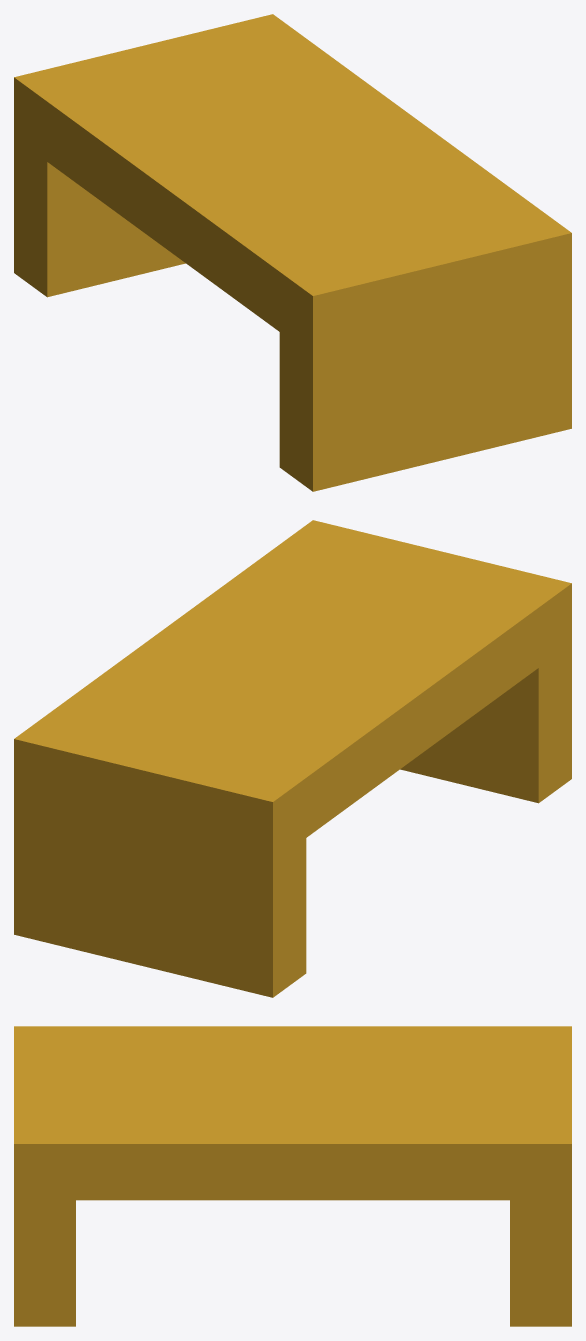
File: hoist_crane_base.glb
3 renders of one model, top to bottom at view 1: azimuth 30°, elevation 25°; view 2: azimuth 150°, elevation 25°; view 3: azimuth 270°, elevation 25°, orthographic. The views are drawn at different scales.
Visible parts, largest first — view 1: body:compound; view 2: body:compound; view 3: body:compound.
Boxes of the visible parts, x1,y1,x2,y2 form: body:compound: [14, 14, 571, 491]; body:compound: [14, 520, 571, 997]; body:compound: [14, 1026, 571, 1326].
Bounding box in the file's own units: 0.5625 × 0.4062 × 1.12.
